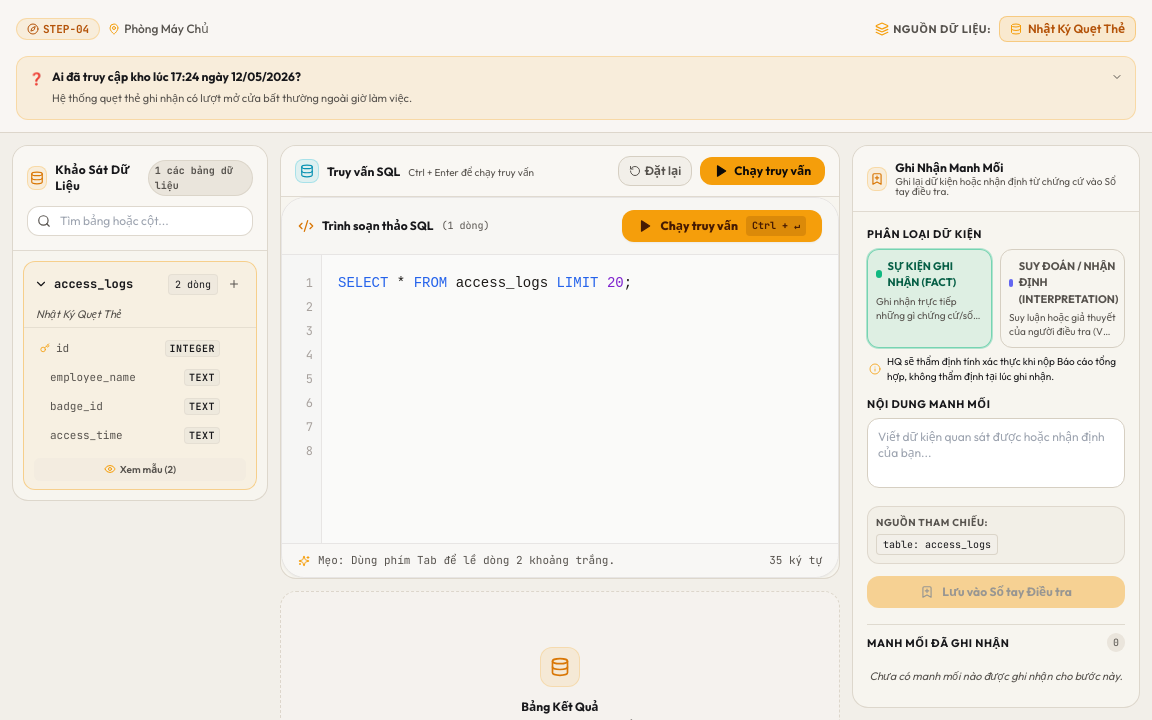
it: DataProcessingWorkspace Component Tests › 7. selects row in ResultViewer and transfers evidence to RecordFindingPanel
Click the button "Chạy truy vấn": [763, 171] box [700,157,825,185]
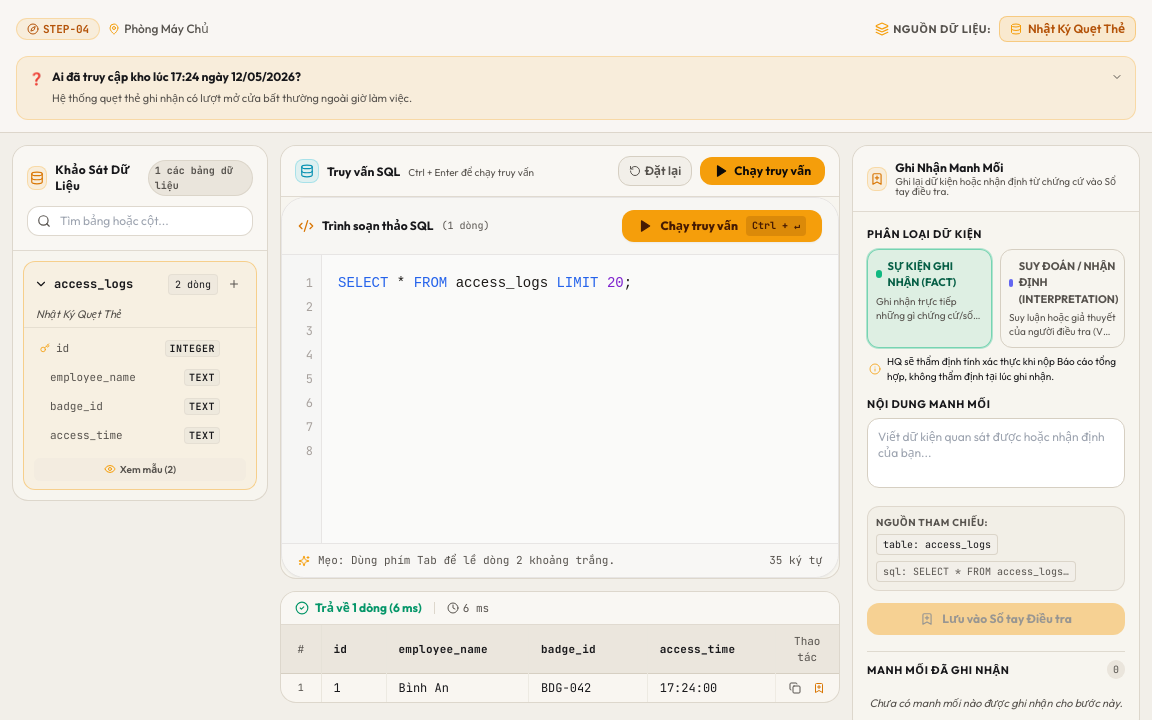
Check: the text "Bình An" is shown
Click on row to select it
Click the text "Bình An": [424, 688] box [398,680,449,696]
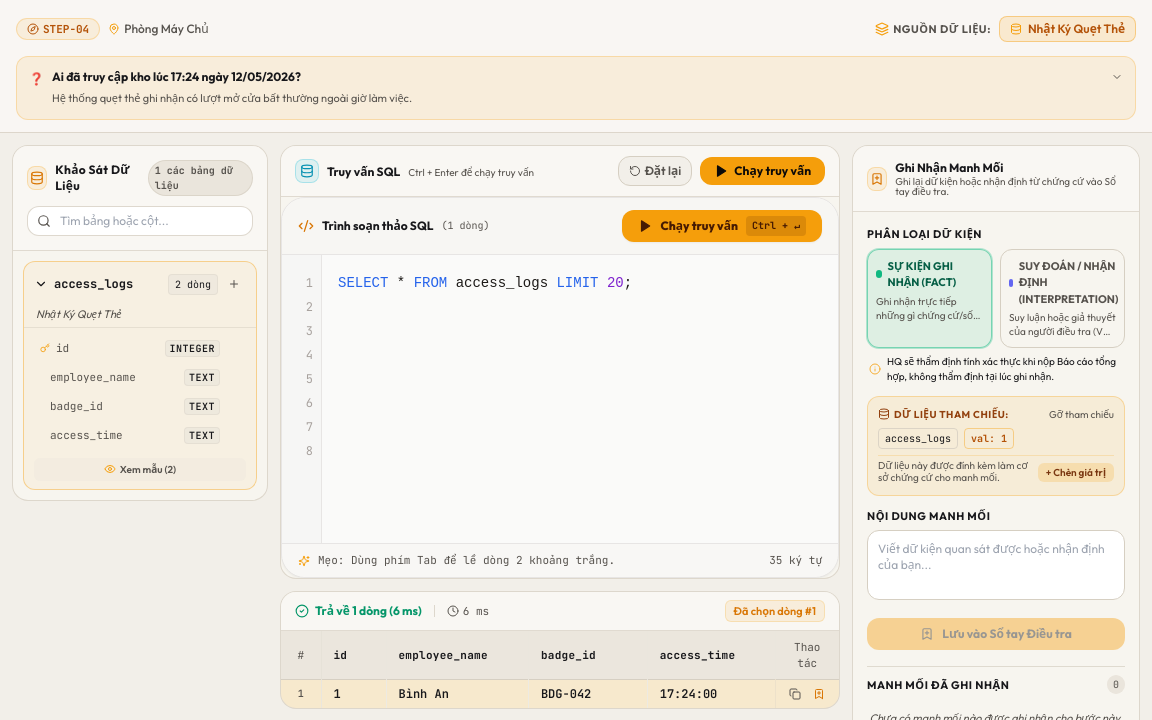
Check: the text box with placeholder "Viết dữ kiện quan sát được hoặc nhận định của bạn..." is empty, box [867,530,1125,600]
Check: the text "Đã chọn dòng #1" is shown, box [724,600,825,622]
Check: the text "Dữ liệu tham chiếu:" is shown, box [878,407,1009,422]
